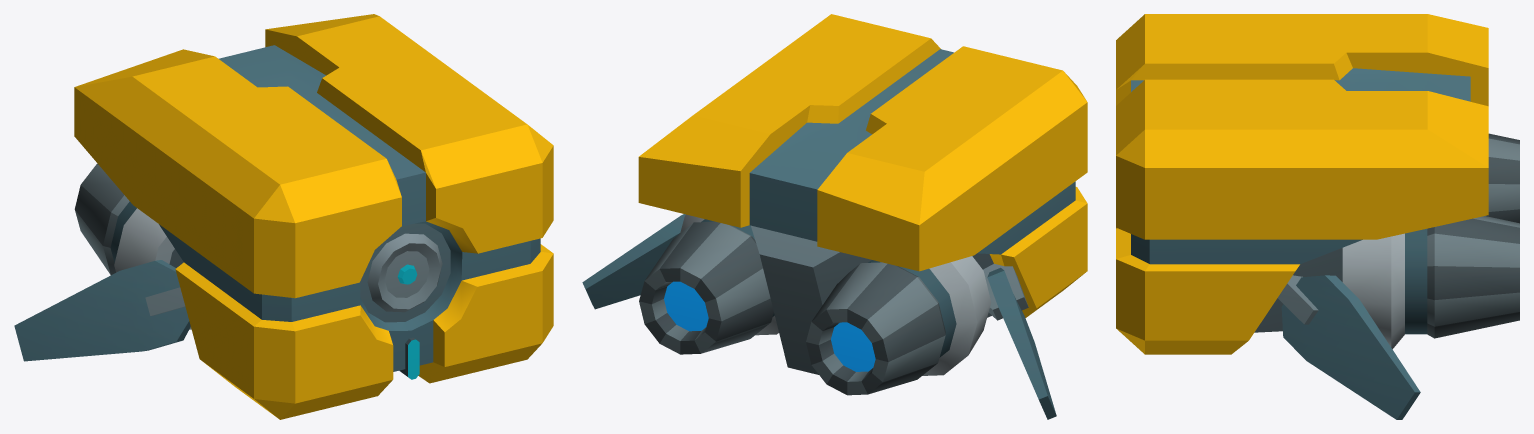
Rendered from Drone_009.glb.
3 views of the same model, side by side, from view 1: azimuth 30°, elevation 25°; view 2: azimuth 150°, elevation 25°; view 3: azimuth 270°, elevation 25° (orthographic). The views are drawn at different scales.
Parts seen in each view (by area): view 1: Drone_009; view 2: Drone_009; view 3: Drone_009.
Boxes of the visible parts, left/top/right/bottom form: Drone_009: left=14, top=14, right=553, bottom=419; Drone_009: left=582, top=14, right=1087, bottom=419; Drone_009: left=1116, top=14, right=1519, bottom=419.
Bounding box in the file's own units: 0.6005 × 0.2891 × 0.4417.
2 materials, 2 textured.
